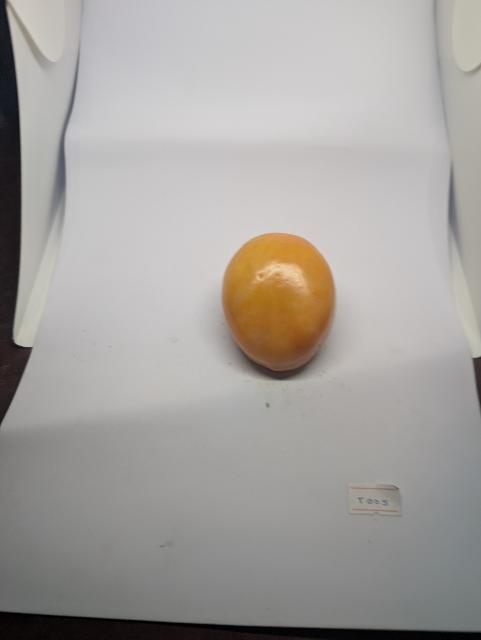turning: (219, 231, 345, 382)
